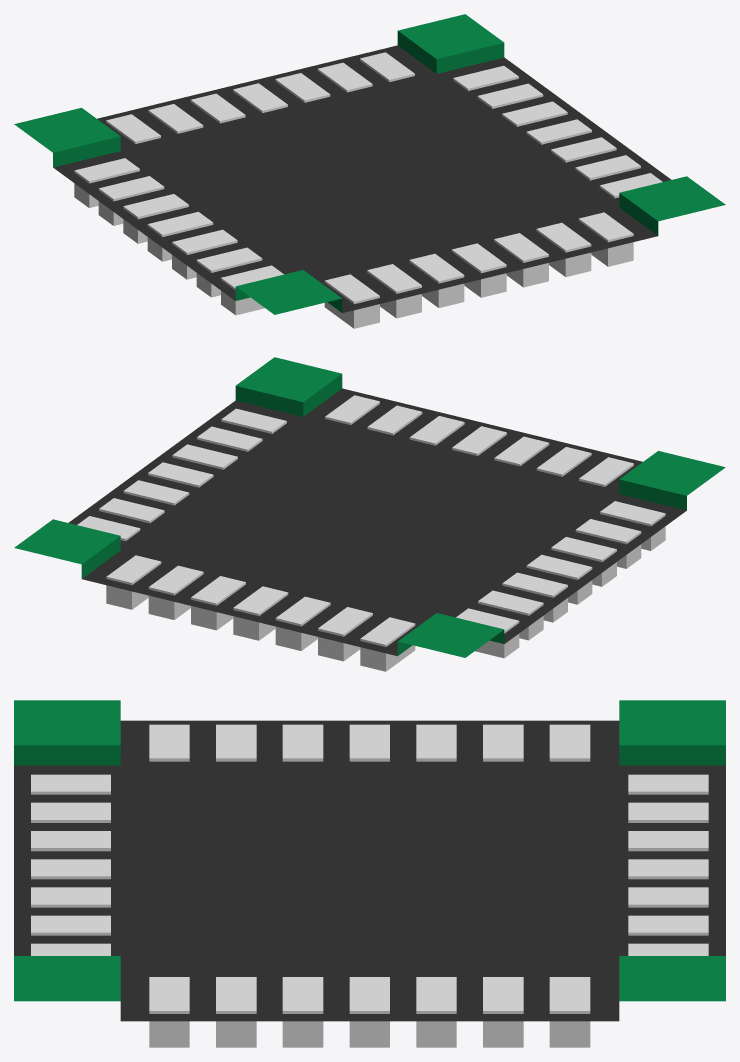
The model's file is Road_Crossing.fbx.
3 views of the same model, one above another, from view 1: azimuth 30°, elevation 25°; view 2: azimuth 150°, elevation 25°; view 3: azimuth 270°, elevation 25° (orthographic). The views are drawn at different scales.
Parts seen in each view (by area): view 1: Road_Crossing; view 2: Road_Crossing; view 3: Road_Crossing.
Part boxes in pixels (x1,y1,x2,y2): Road_Crossing: (14, 14, 725, 328); Road_Crossing: (14, 357, 725, 671); Road_Crossing: (14, 700, 725, 1047).
Size of the model in its own units: 96 by 8 by 96.
